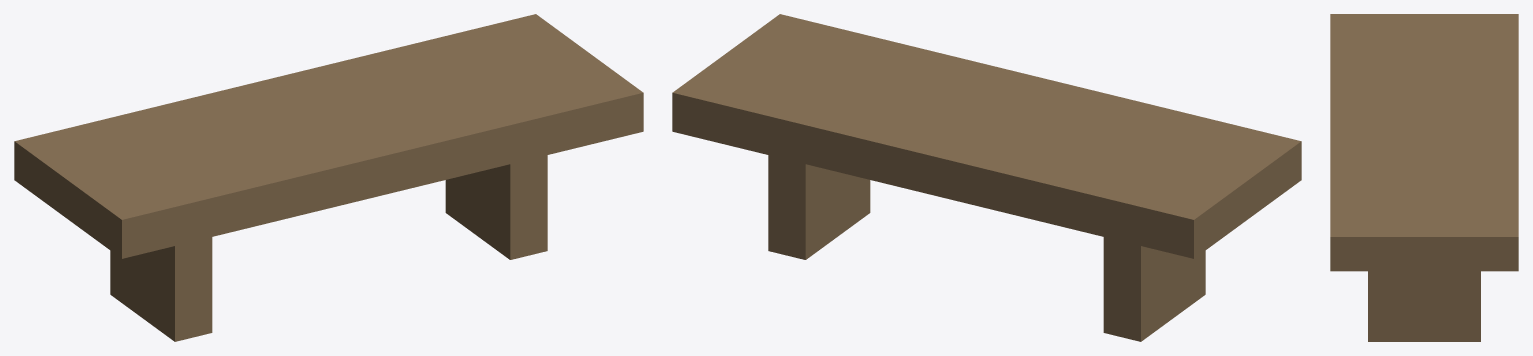
Rendered from Bench3.obj.
3 views of the same model, side by side, from view 1: azimuth 30°, elevation 25°; view 2: azimuth 150°, elevation 25°; view 3: azimuth 270°, elevation 25° (orthographic). The views are drawn at different scales.
Parts seen in each view (by area): view 1: Bench3; view 2: Bench3; view 3: Bench3.
Part boxes in pixels (x1,y1,x2,y2): Bench3: (14, 14, 643, 341); Bench3: (672, 14, 1301, 341); Bench3: (1330, 14, 1518, 341).
Bounding box in the file's own units: 14 × 4 × 5.
